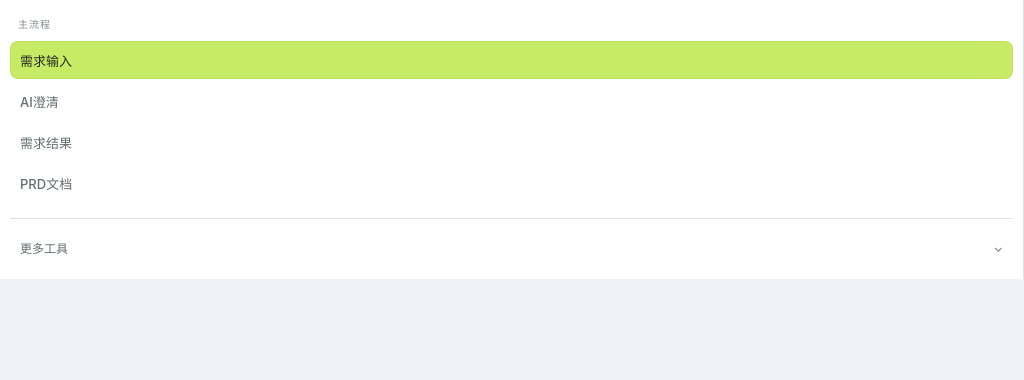
it: ProjectNavigation › keeps flowchart and architecture under a collapsed more tools group
Click the button with test id "more-tools-toggle": (44,248) 10,231 -> 1013,263
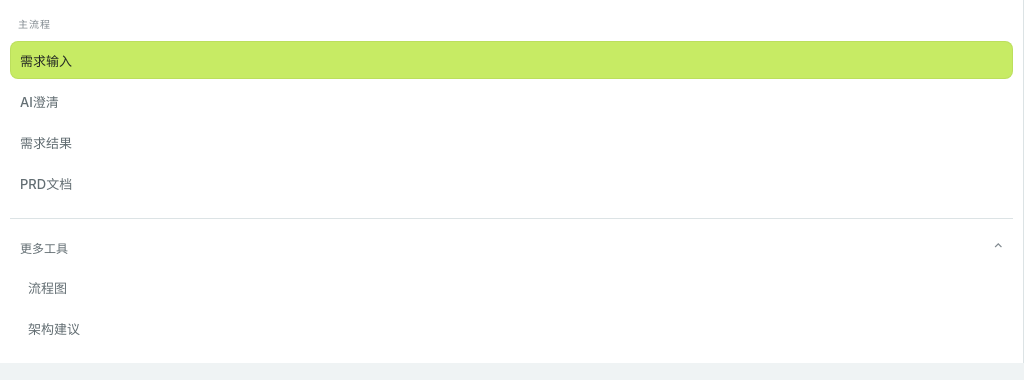
Result: the button with test id "more-tools-toggle" is expanded at 10,231 -> 1013,263
Result: the text "流程图" is shown at 28,280 -> 67,296
Result: the text "架构建议" is shown at 28,320 -> 80,336
